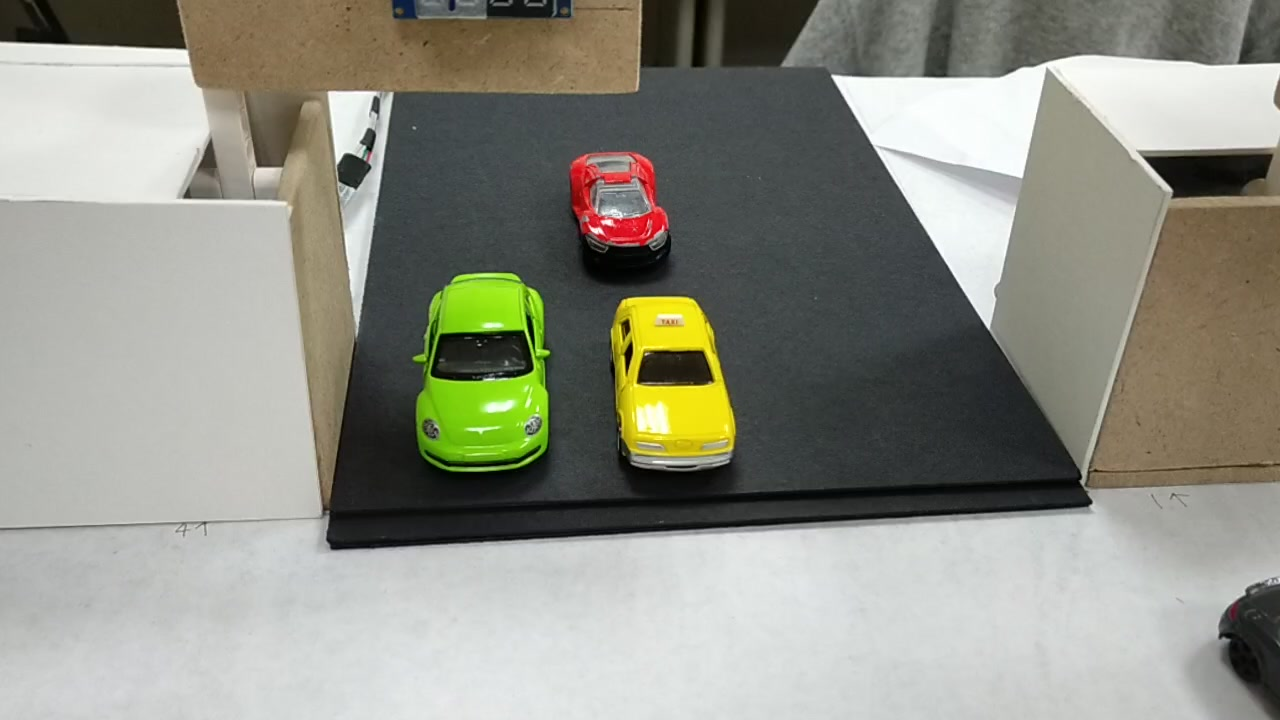car: (421, 281, 546, 470), (609, 300, 737, 477), (568, 145, 671, 272)
